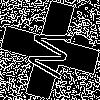W: (25, 25, 82, 83)
